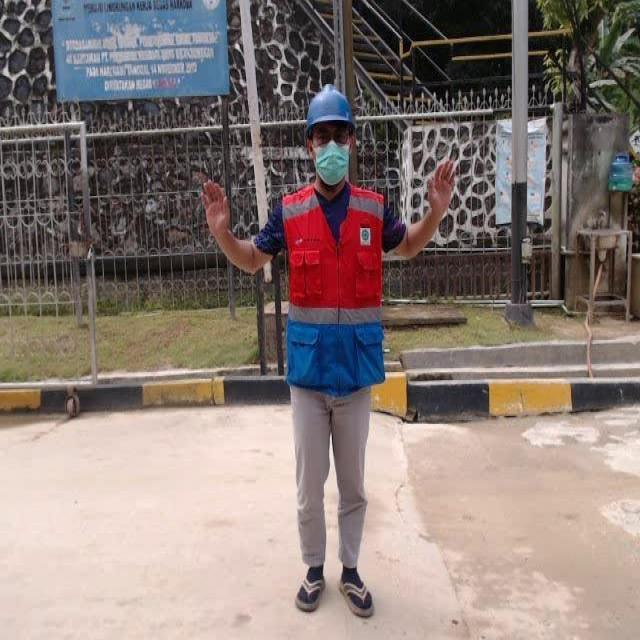hat: (303, 80, 355, 134)
